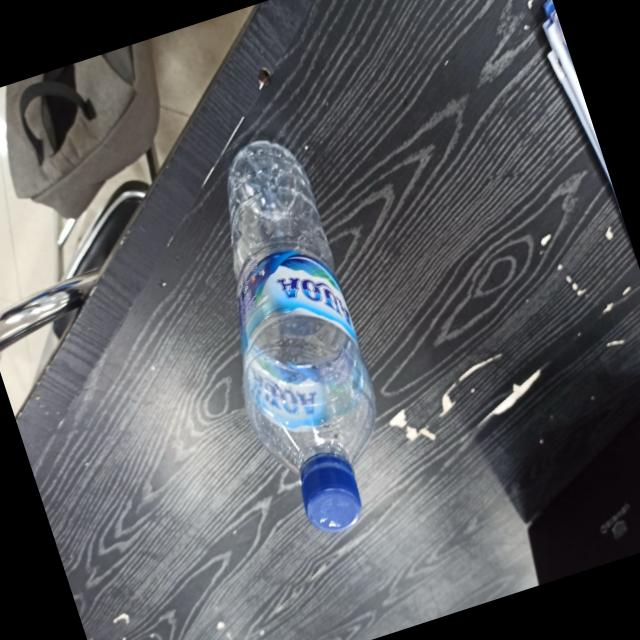BotolPlastik: (167, 128, 417, 550)
